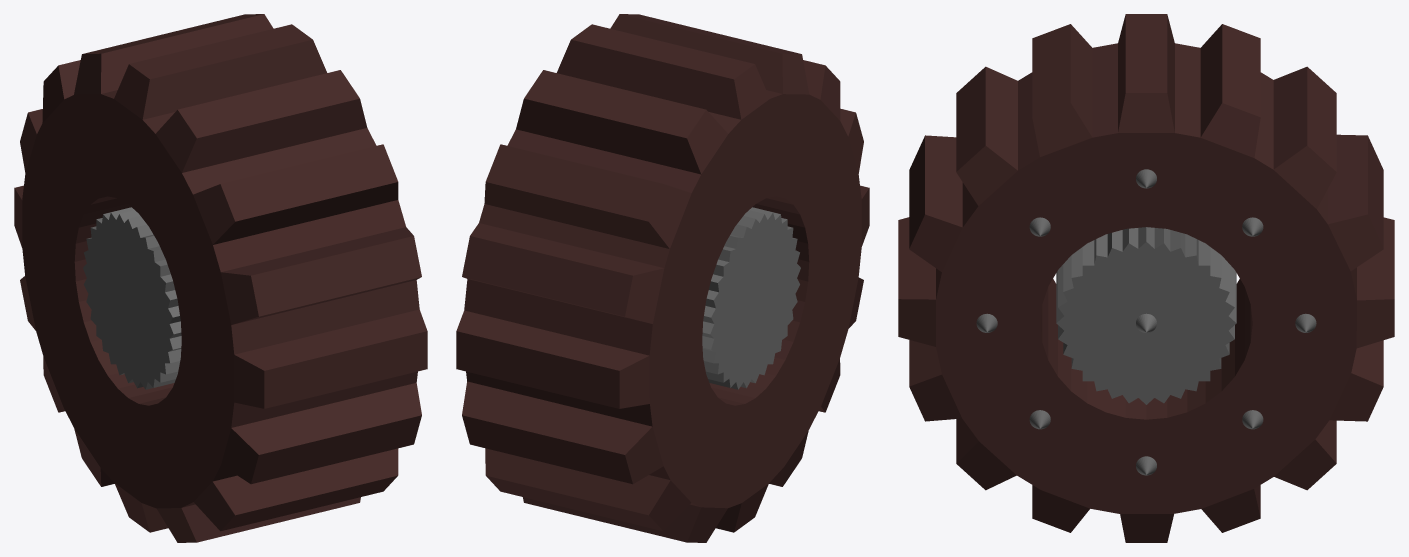
The model's file is BigGear.fbx.
3 renders of one model, left to right at view 1: azimuth 30°, elevation 25°; view 2: azimuth 150°, elevation 25°; view 3: azimuth 270°, elevation 25°, orthographic.
Visible parts, largest first — view 1: BigGear, GearCore; view 2: BigGear, GearCore; view 3: BigGear, GearCore.
Part boxes in pixels (x1,y1,x2,y2): BigGear: [14, 14, 427, 542]; GearCore: [83, 207, 181, 389]; BigGear: [456, 14, 869, 542]; GearCore: [702, 207, 800, 389]; BigGear: [898, 14, 1394, 542]; GearCore: [1056, 227, 1236, 404].
Size of the model in its own units: 110 by 234 by 234.
